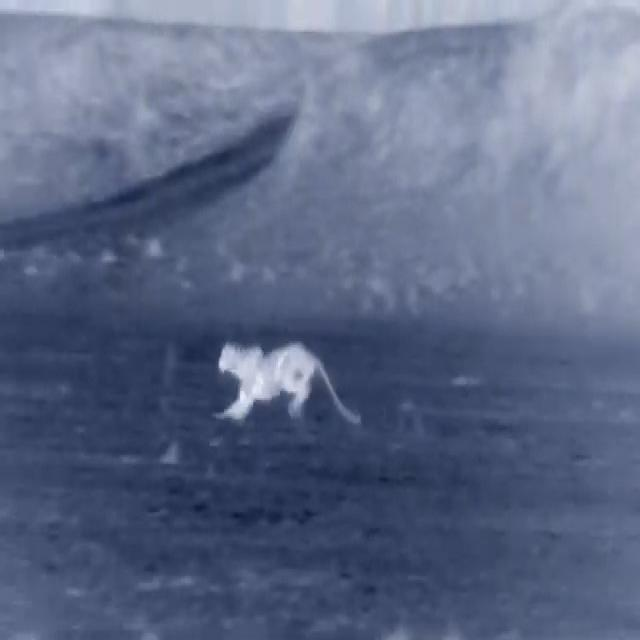animal: (186, 267, 398, 500)
